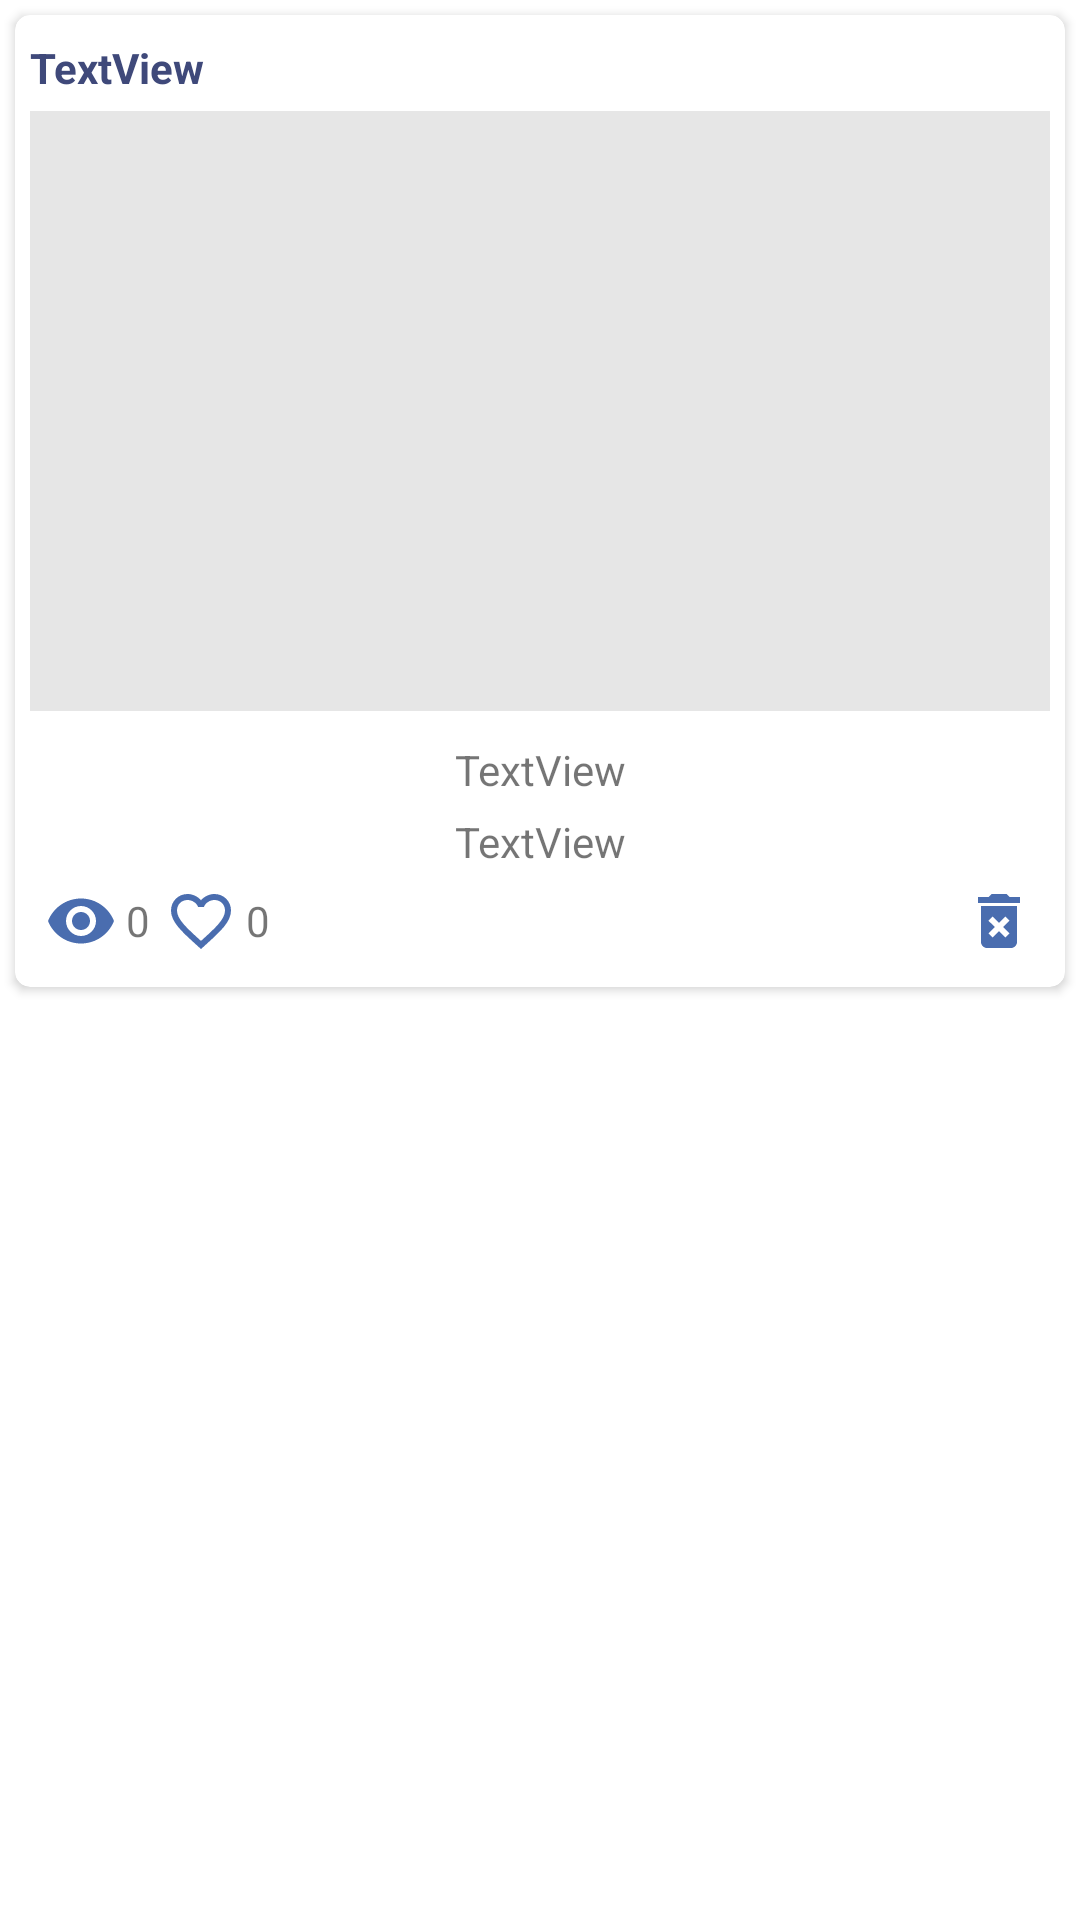

Icons on this 1080w x 1920h Android screen, each with the point to tap as point (x, y):
delete ad: point (999, 921)
eye: point (81, 921)
fav: point (201, 921)
